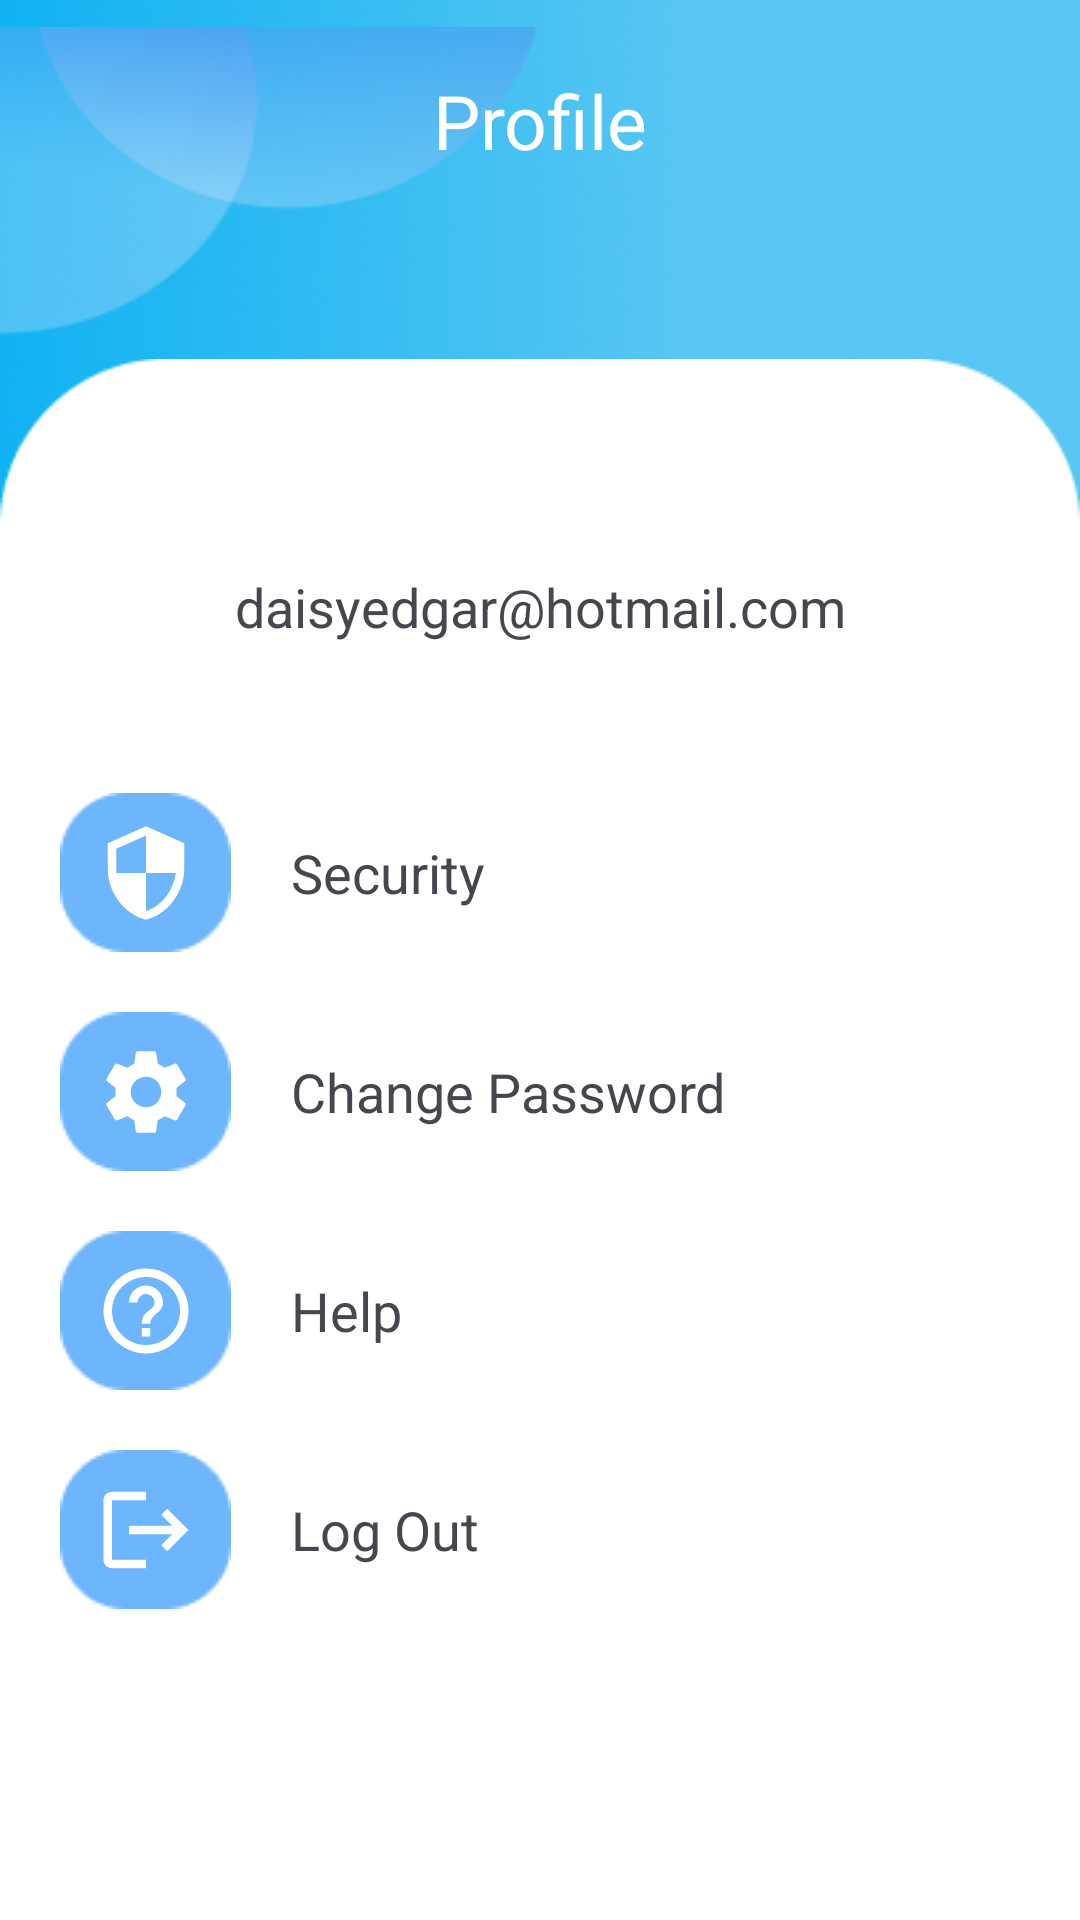

Named icons in this screenshot (1080px x 1920px) and their bounding boxes, (x1, y1, x2, y2):
settings: (106, 1051, 186, 1133)
